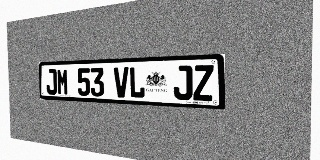3: (90, 68, 104, 97)
5: (77, 68, 90, 96)
J: (173, 65, 192, 100), (46, 69, 57, 95)
L: (129, 66, 145, 98)
M: (57, 68, 69, 95)
V: (114, 67, 129, 98)
Z: (193, 65, 214, 101)
